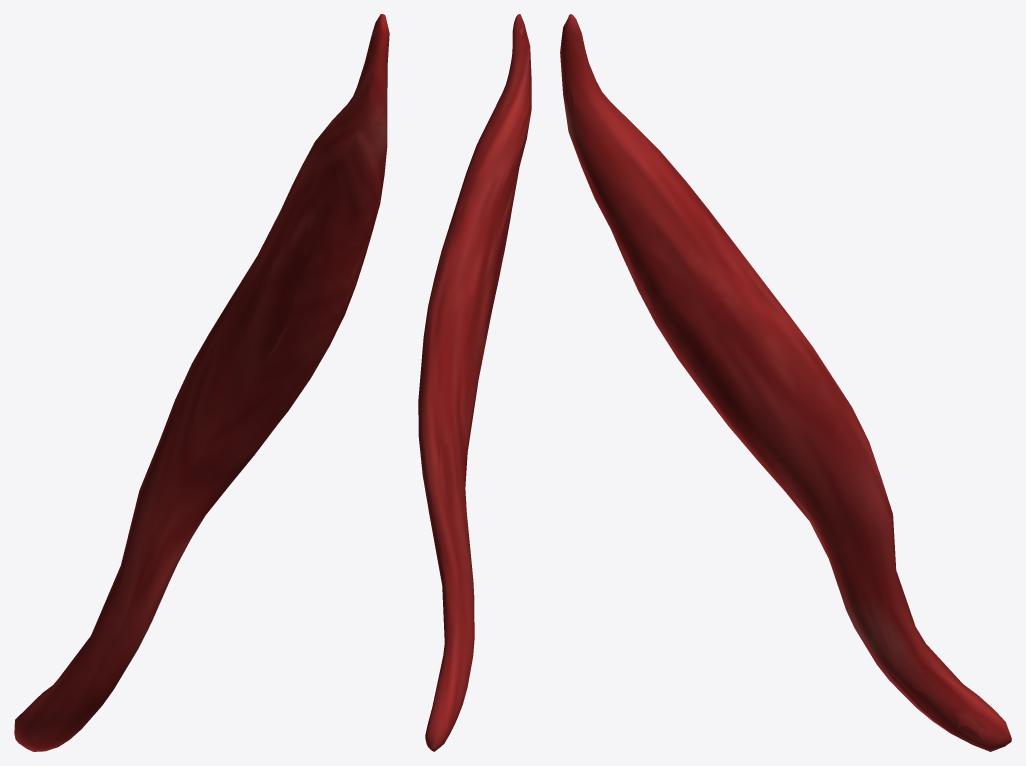
File: R Biceps Brachii.fbx
The picture shows the model from 3 angles, left to right: view 1: azimuth 30°, elevation 25°; view 2: azimuth 150°, elevation 25°; view 3: azimuth 270°, elevation 25°; orthographic projection. The views are drawn at different scales.
Visible parts, largest first — view 1: R Biceps Brachii, R Biceps Brachii low, R Biceps Brachii high; view 2: R Biceps Brachii, R Biceps Brachii low, R Biceps Brachii high; view 3: R Biceps Brachii, R Biceps Brachii low, R Biceps Brachii high.
Boxes of the visible parts, x1=… form: R Biceps Brachii: x1=14, y1=14, x2=389, y2=751; R Biceps Brachii low: x1=16, y1=17, x2=388, y2=746; R Biceps Brachii high: x1=18, y1=15, x2=387, y2=750; R Biceps Brachii: x1=418, y1=14, x2=531, y2=751; R Biceps Brachii low: x1=418, y1=58, x2=526, y2=750; R Biceps Brachii high: x1=427, y1=19, x2=530, y2=747; R Biceps Brachii: x1=560, y1=14, x2=1007, y2=751; R Biceps Brachii low: x1=561, y1=18, x2=1011, y2=750; R Biceps Brachii high: x1=563, y1=16, x2=1006, y2=746.
Bounding box in the file's own units: 1.31 × 6.85 × 3.57.
1 material, 1 textured.
